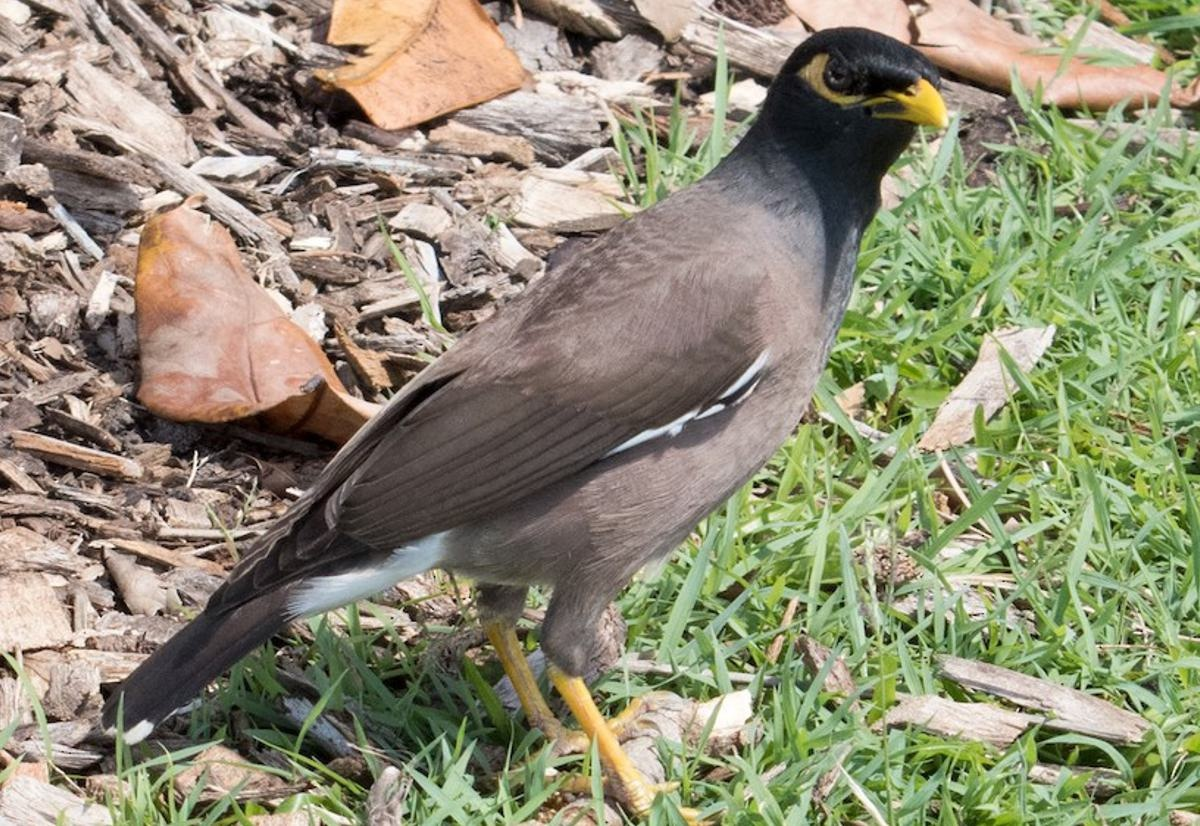myna: (244, 48, 989, 796)
